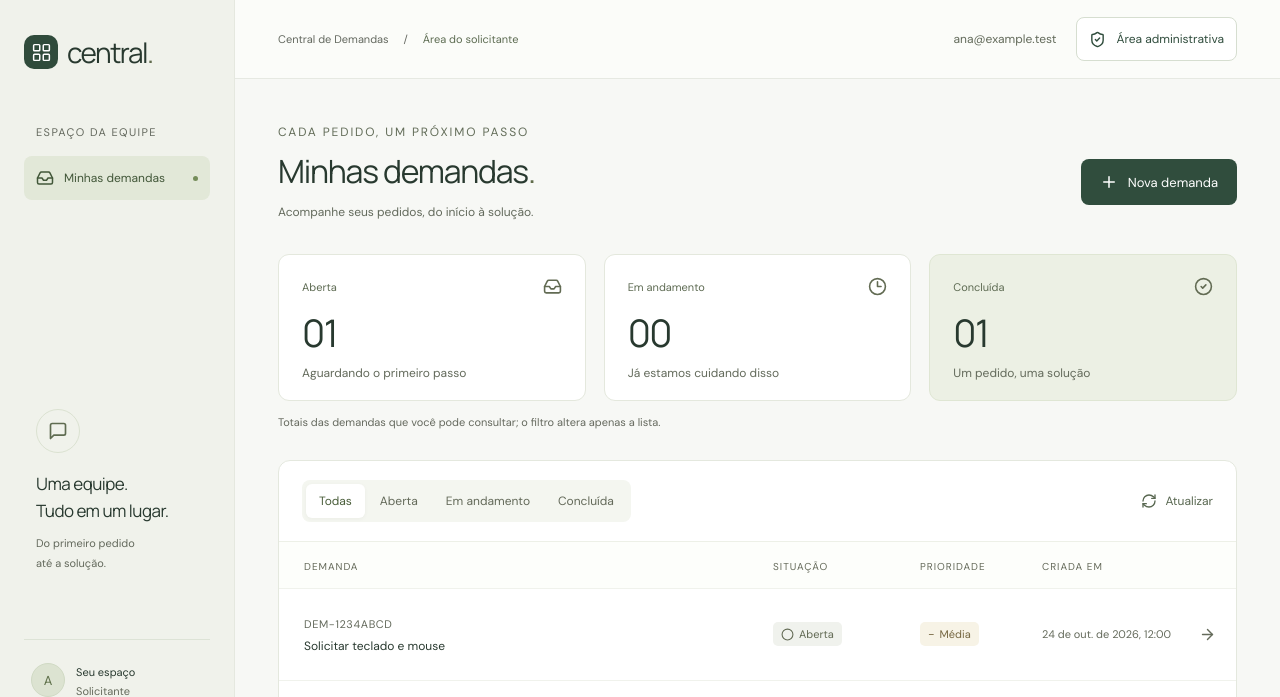
it: participant flow › keeps total counts independent from the filter
expect the text "Solicitar teclado e mouse" is shown: met, box [304,638,445,654]
Click the button "Concluída". click: (586, 501)
box: [545,484,627,518]
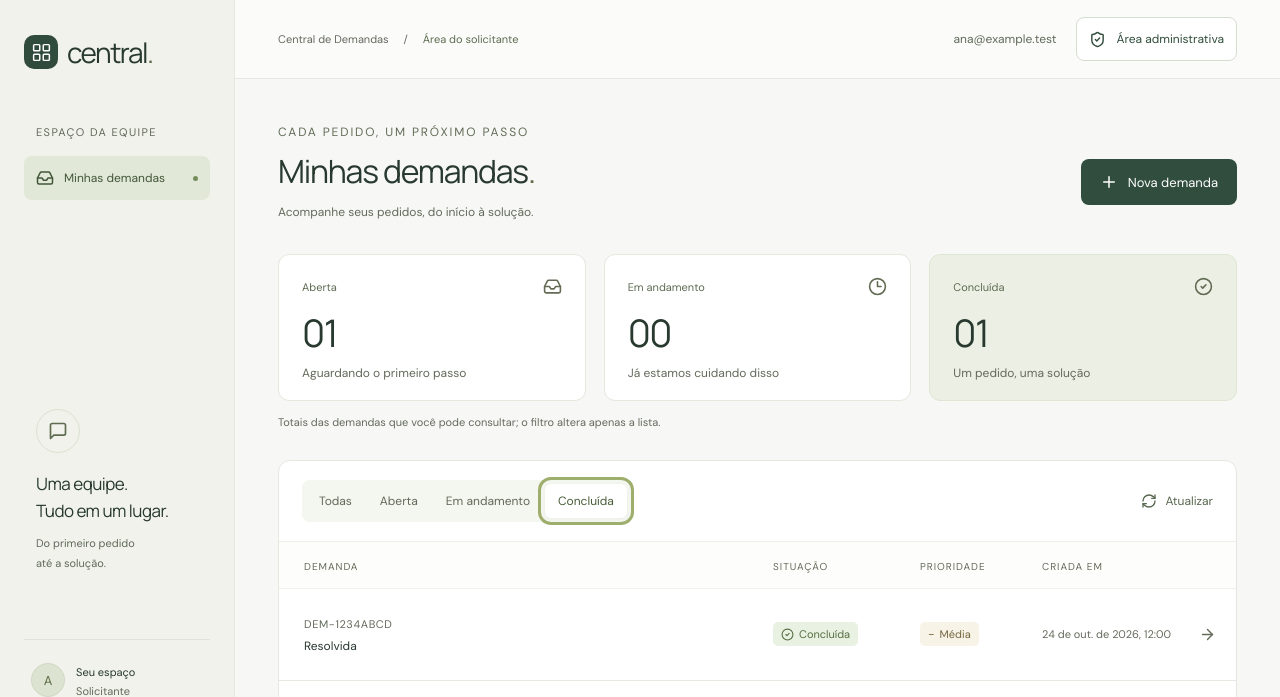
expect the text "Resolvida" is shown: met, box [304,638,357,654]
expect the link "Solicitar teclado e mouse" is gone: met
